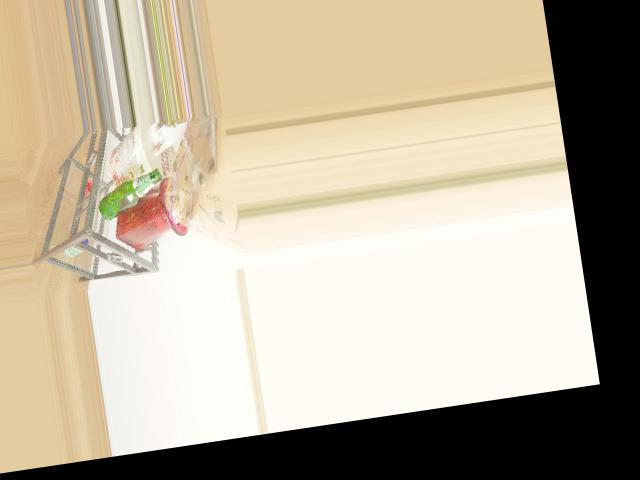beer: (94, 168, 166, 221)
